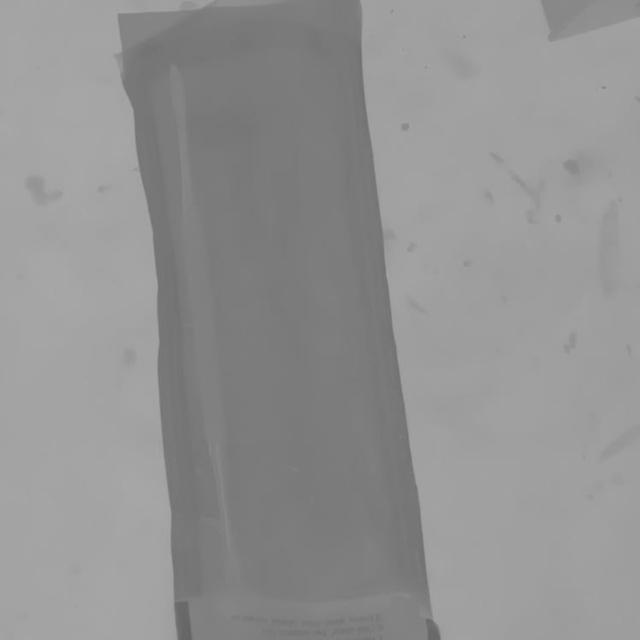elevador: (170, 67, 246, 584)
